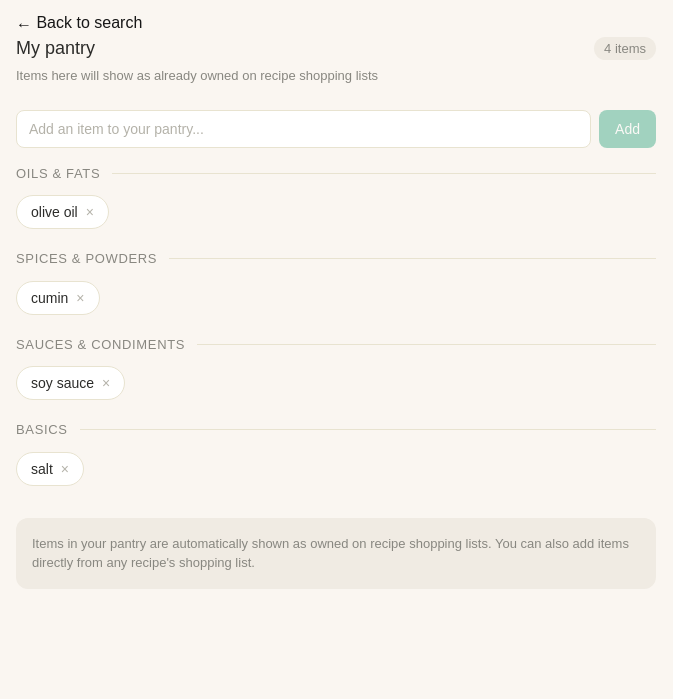
it: PantryPage › cancels remove when Undo is clicked
Step 1. Click the button named "Remove olive oil" → (90, 212), box [86, 205, 94, 219]
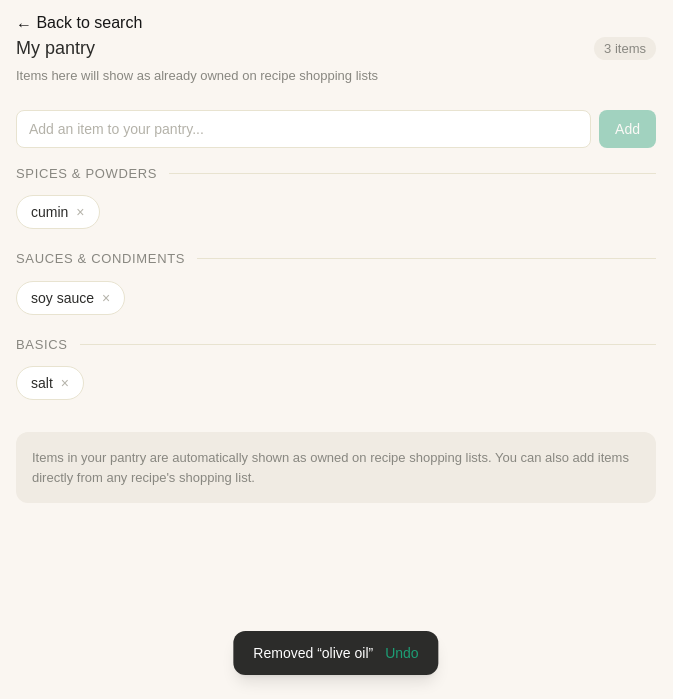
Step 2. Click the button "Undo" → (402, 653), box [385, 643, 419, 663]
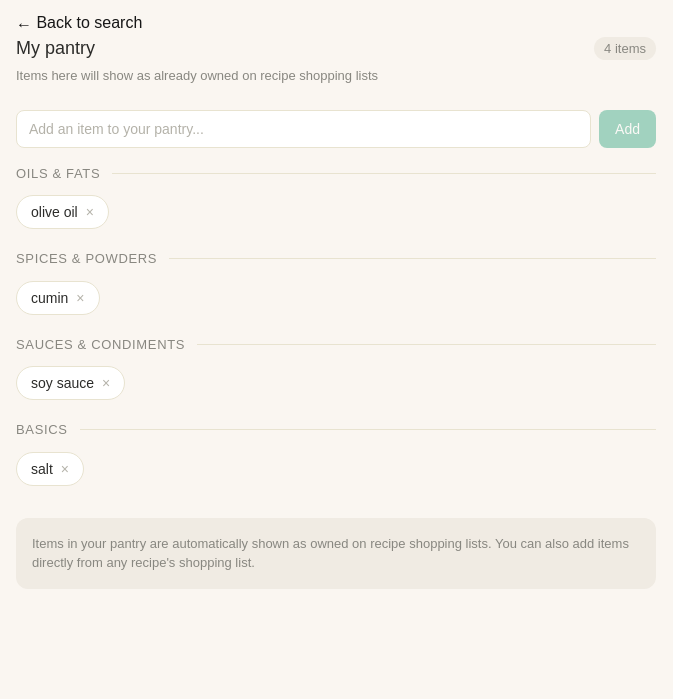
Now the button named "Remove olive oil" is shown, box [86, 205, 94, 219]
Now the button "Undo" is gone
